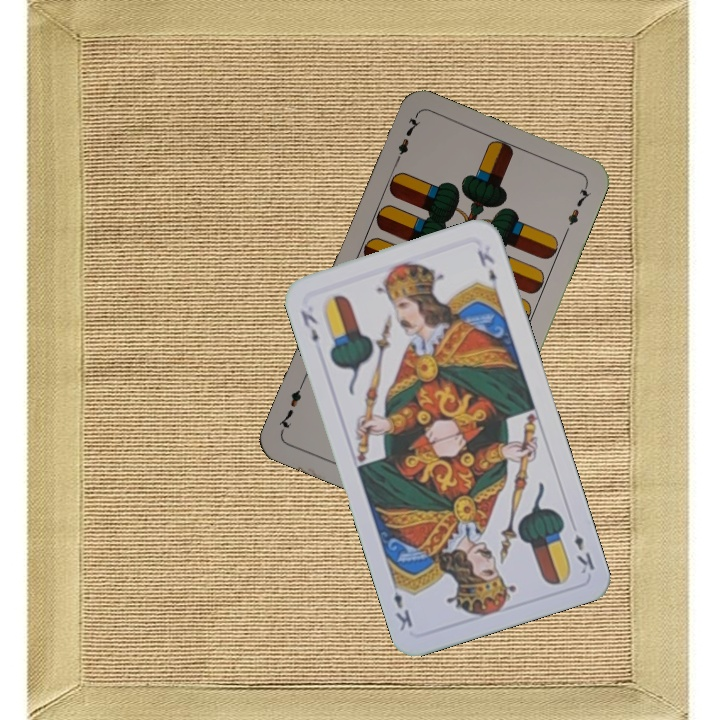E7: (389, 112, 422, 168)
EK: (570, 530, 597, 577), (296, 306, 321, 345)
